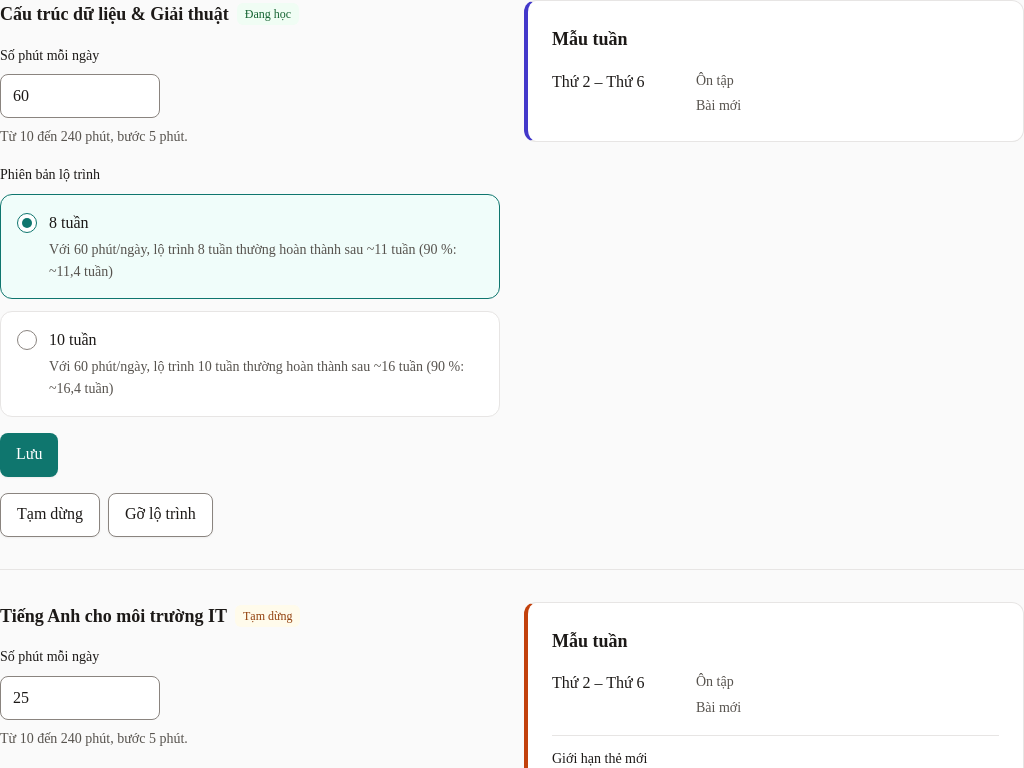
Scenario: TrackSettings — pause, resume, remove › "Gỡ lộ trình" asks first, then removes
Step 1. Click the button "Gỡ lộ trình" → [160, 515], box top-left (108, 493), bottom-right (213, 537)
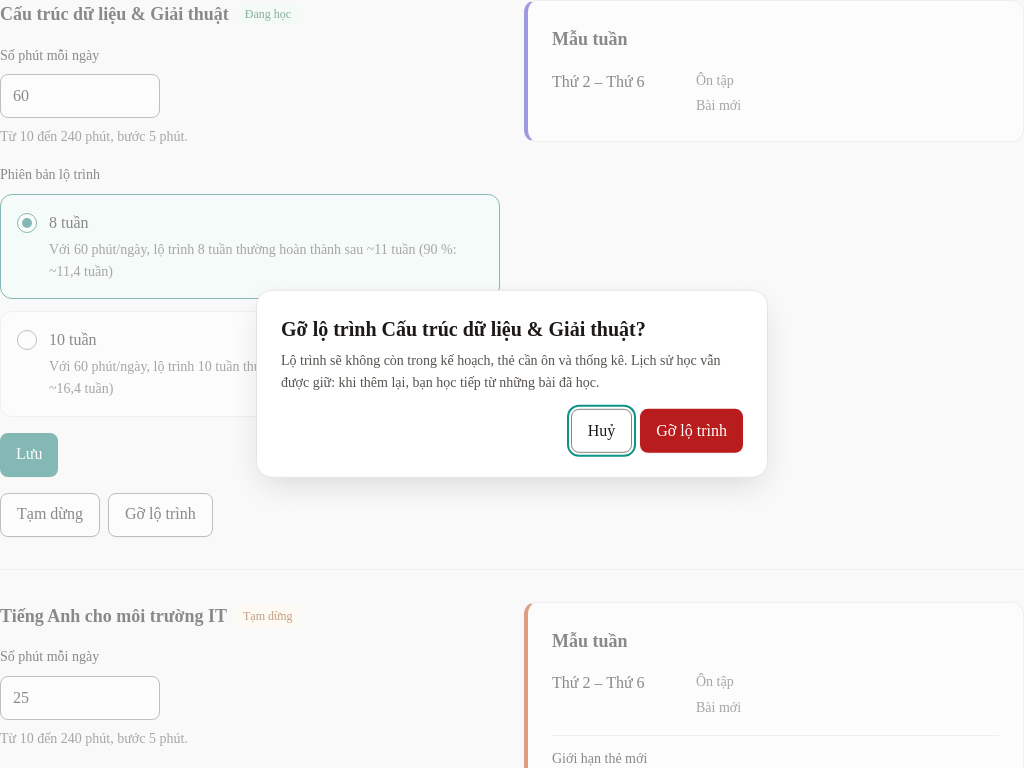
Step 2. Click the button "Gỡ lộ trình" → [692, 431], box top-left (640, 409), bottom-right (743, 453)
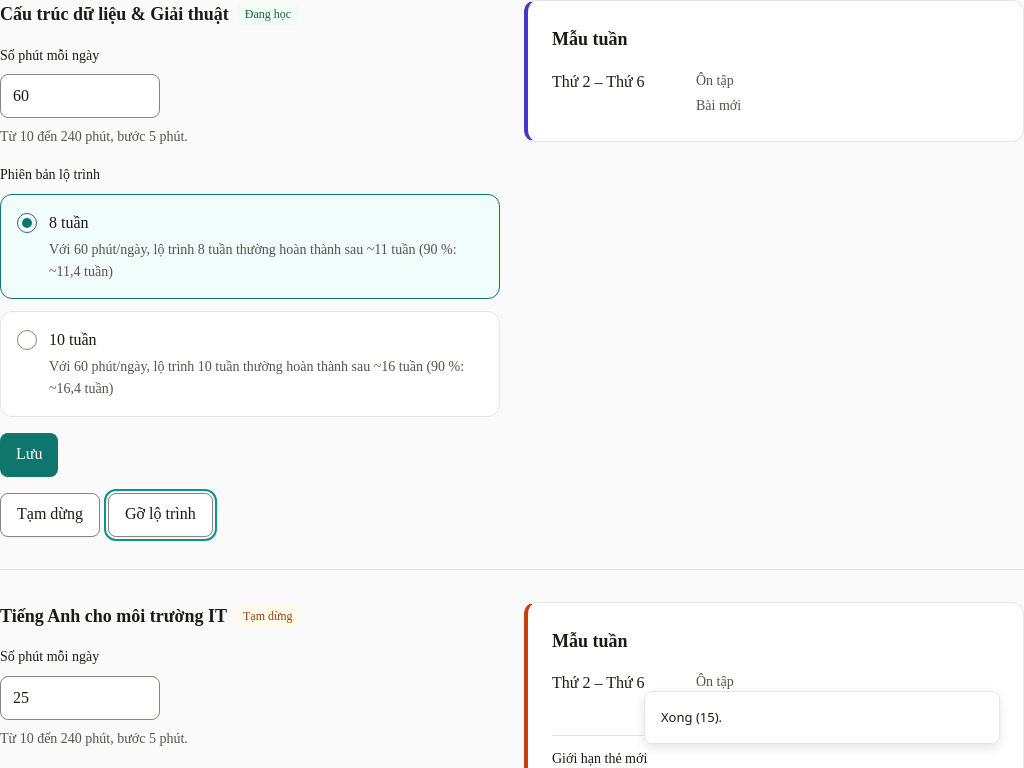
Expected: the dialog is gone
